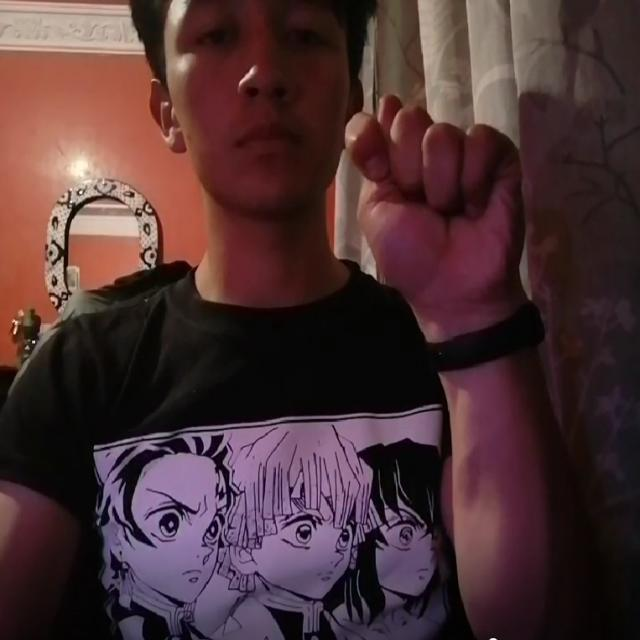T: (326, 84, 538, 328)
